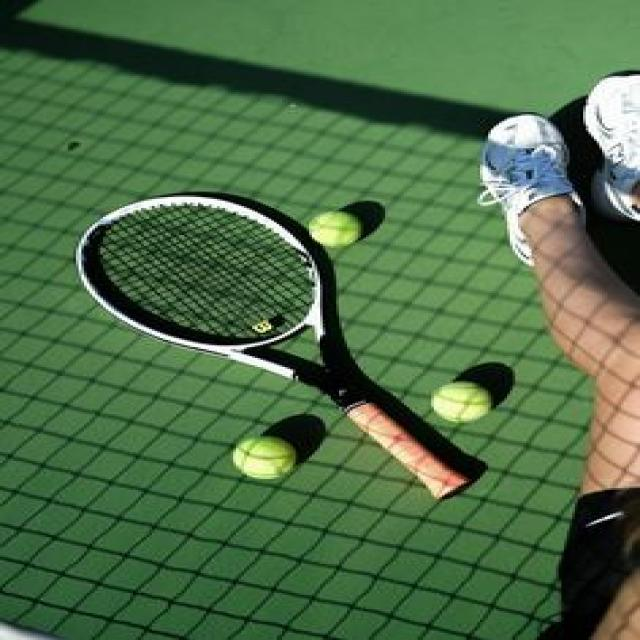tennis: (434, 377, 502, 426), (305, 203, 369, 251), (234, 435, 297, 482)
